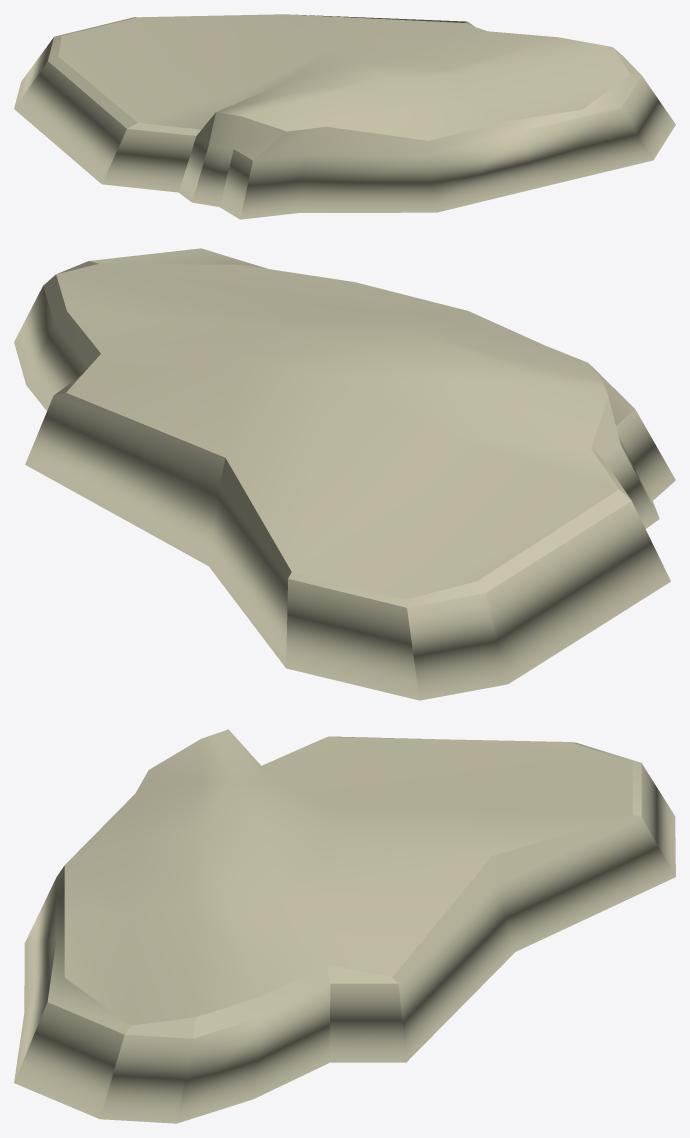
Rendered from island1.fbx.
3 views of the same model, one above another, from view 1: azimuth 30°, elevation 25°; view 2: azimuth 150°, elevation 25°; view 3: azimuth 270°, elevation 25° (orthographic). The views are drawn at different scales.
Visible parts, largest first — view 1: pPlane1; view 2: pPlane1; view 3: pPlane1.
Boxes of the visible parts, <box> form: pPlane1: <box>14,14,675,219</box>; pPlane1: <box>14,248,675,700</box>; pPlane1: <box>14,729,675,1123</box>.
Size of the model in its own units: 24.48 by 4.03 by 20.32.
